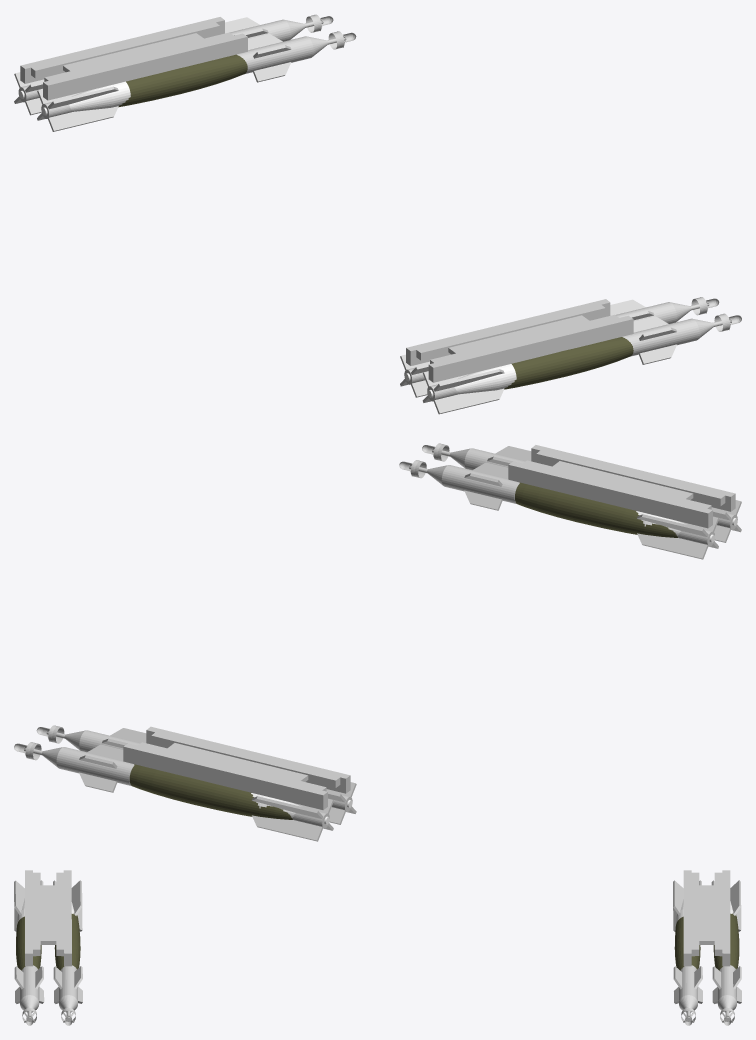
The model's file is f18fgbu1225.glb.
The picture shows the model from 3 angles, top to bottom: view 1: azimuth 30°, elevation 25°; view 2: azimuth 150°, elevation 25°; view 3: azimuth 270°, elevation 25°; orthographic projection. The views are drawn at different scales.
Parts seen in each view (by area): view 1: 円柱.002, 立方体.012, 立方体.011, 円柱.010, 円柱.003, 円柱.011; view 2: 円柱.011, 円柱.003, 立方体.011, 立方体.012, 円柱.002, 円柱.010; view 3: 立方体.011, 立方体.012, 円柱.011, 円柱.003, 円柱.010, 円柱.002.
Boxes of the visible parts, bbox=[...] form: 円柱.002: bbox=[422, 313, 741, 414]; 立方体.012: bbox=[406, 299, 633, 382]; 立方体.011: bbox=[20, 17, 247, 100]; 円柱.010: bbox=[37, 31, 356, 131]; 円柱.003: bbox=[400, 297, 719, 397]; 円柱.011: bbox=[14, 14, 333, 115]; 円柱.011: bbox=[14, 742, 333, 841]; 円柱.003: bbox=[399, 460, 718, 559]; 立方体.011: bbox=[123, 726, 350, 809]; 立方体.012: bbox=[508, 445, 735, 528]; 円柱.002: bbox=[422, 443, 741, 542]; 円柱.010: bbox=[36, 725, 356, 824]; 立方体.011: bbox=[683, 870, 730, 966]; 立方体.012: bbox=[25, 870, 71, 966]; 円柱.011: bbox=[711, 880, 741, 1025]; 円柱.003: bbox=[53, 880, 82, 1025]; 円柱.010: bbox=[673, 880, 702, 1025]; 円柱.002: bbox=[14, 880, 44, 1025].
Size of the model in its own units: 3.69 by 0.4909 by 8.7.
2 materials, 1 textured.
